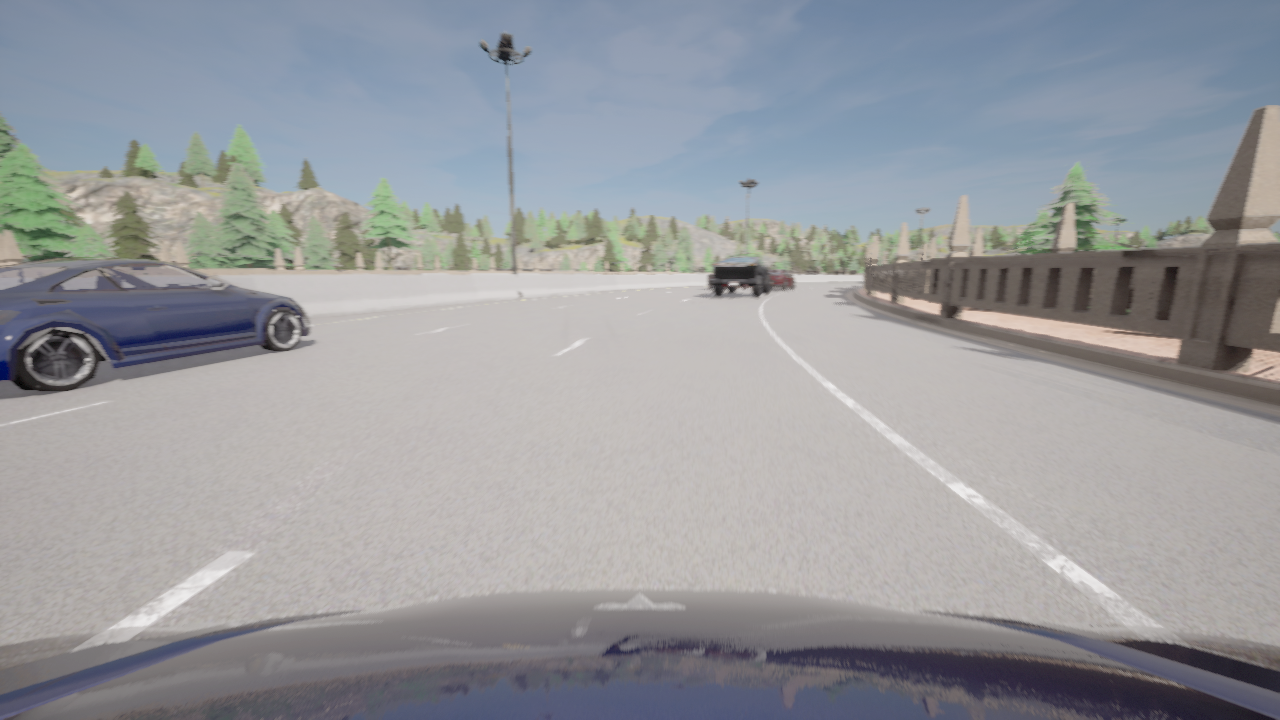cyclist: (0, 588, 1279, 719), (0, 259, 312, 391), (712, 256, 771, 297), (708, 274, 746, 289), (769, 270, 795, 289)
